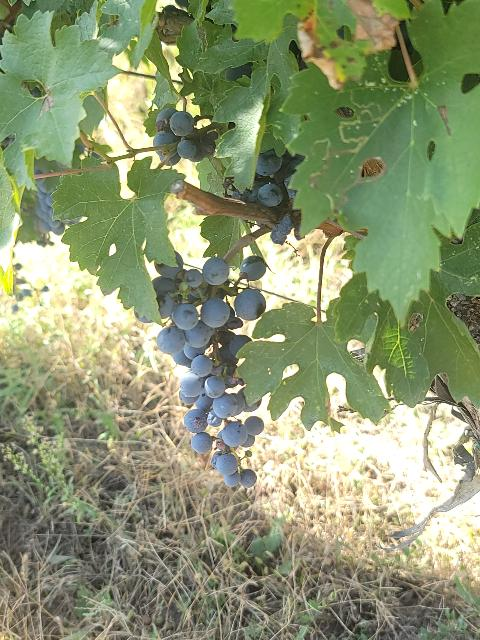grapes: (152, 254, 266, 488)
